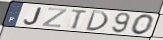9: (111, 12, 132, 34)
D: (84, 10, 109, 32)
J: (23, 7, 43, 26)
O: (130, 14, 156, 36)
T: (70, 9, 89, 30)
Z: (40, 7, 69, 29)
